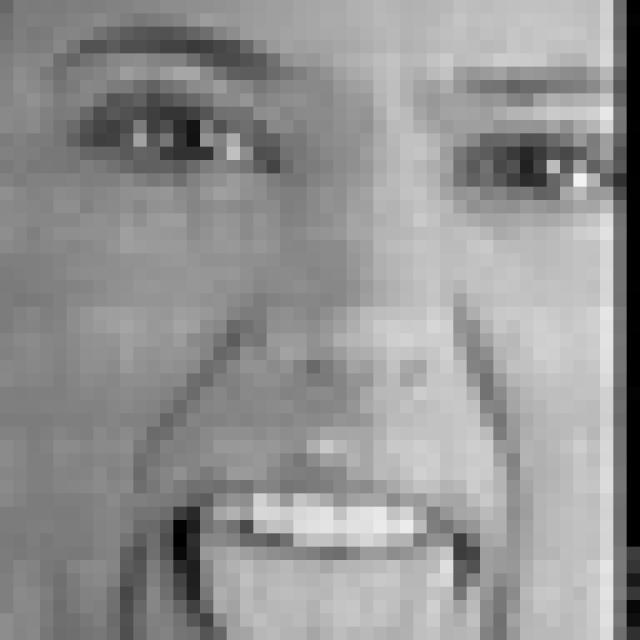disgust: (68, 23, 609, 640)
